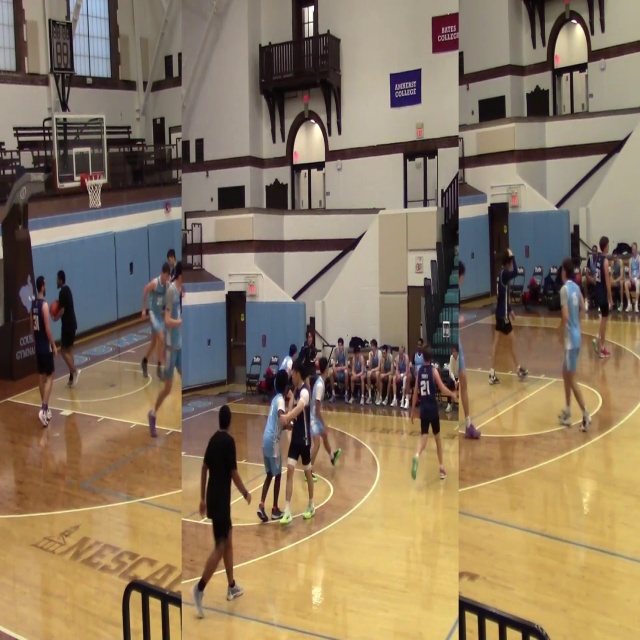Basketball: (313, 376, 325, 401), (49, 300, 60, 319)
